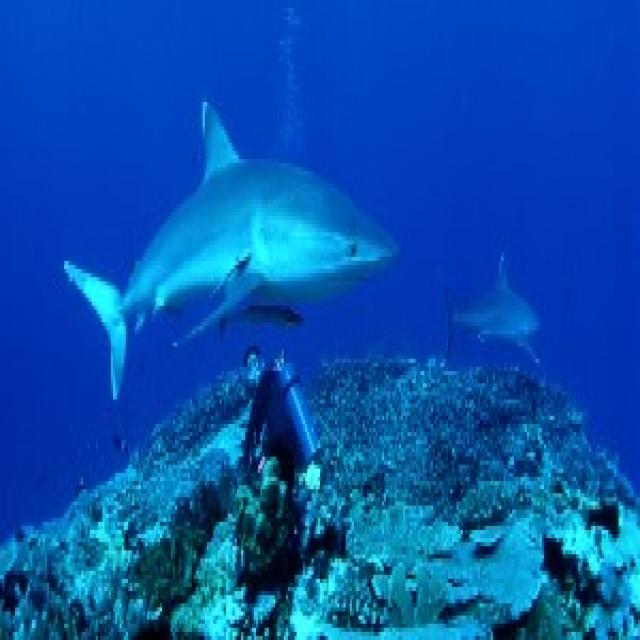Shark: (59, 89, 404, 402)
